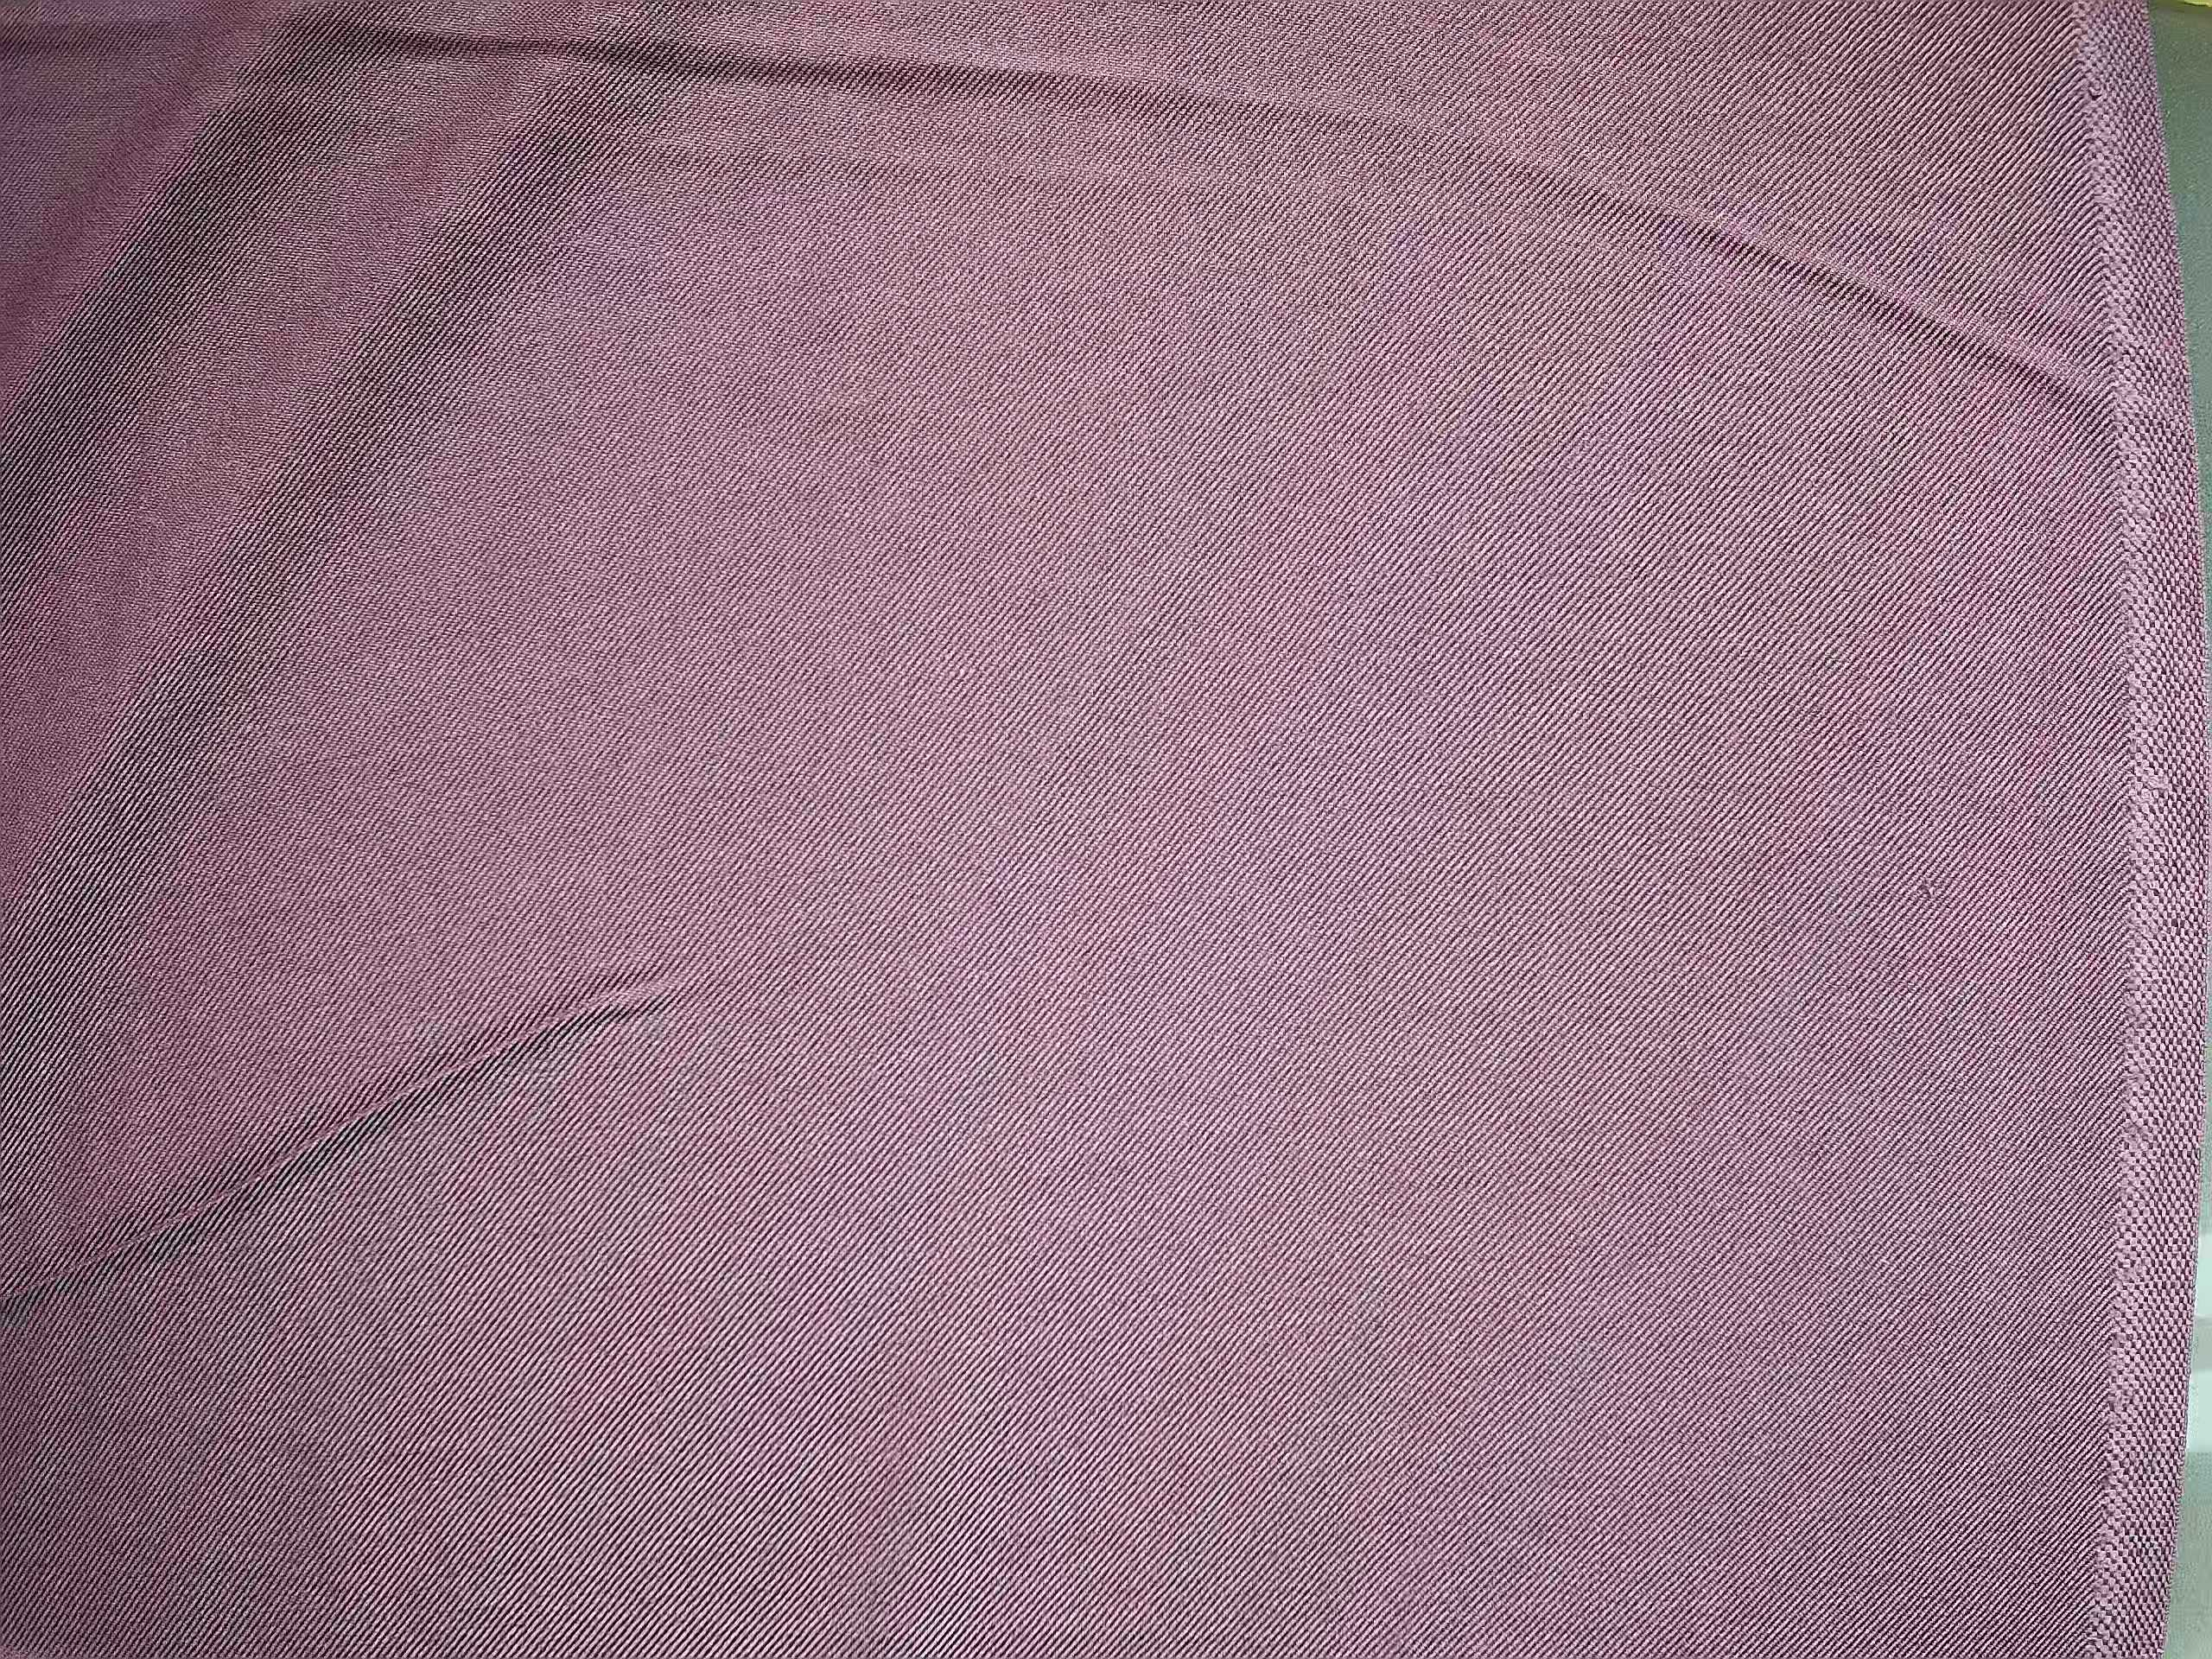others: (1900, 864, 1954, 918)
